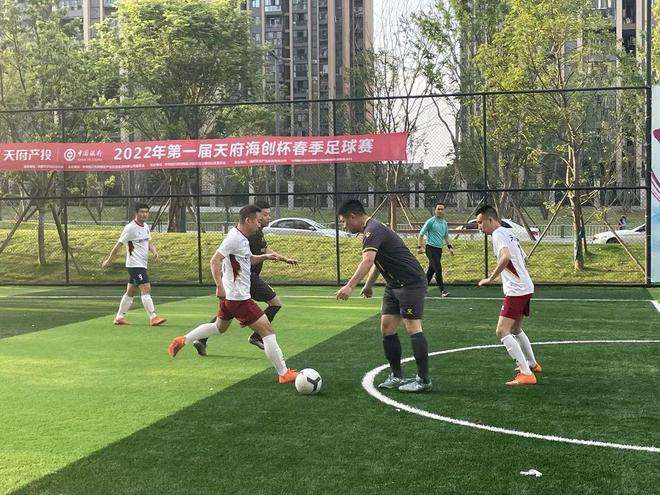football: (295, 367, 324, 396)
